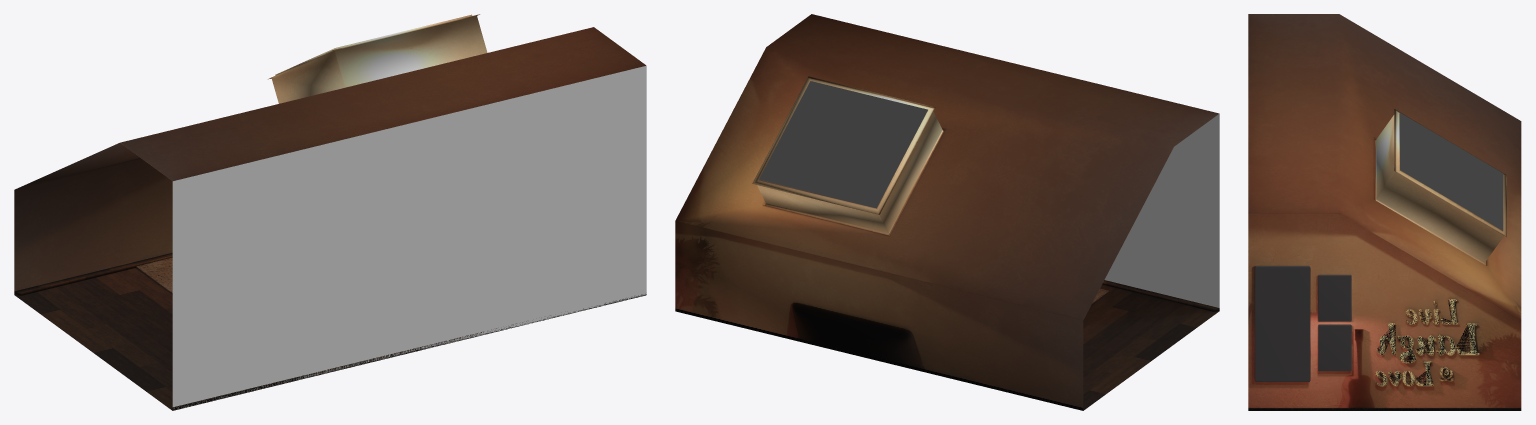
File: Loft Bedroom.fbx
The picture shows the model from 3 angles, left to right: view 1: azimuth 30°, elevation 25°; view 2: azimuth 150°, elevation 25°; view 3: azimuth 270°, elevation 25°; orthographic projection. The views are drawn at different scales.
Parts seen in each view (by area): view 1: LoftBedroom; view 2: LoftBedroom; view 3: LoftBedroom.
Part boxes in pixels (x1,y1,x2,y2): LoftBedroom: (14,14,646,410); LoftBedroom: (675,14,1219,410); LoftBedroom: (1248,14,1521,410).
Size of the model in its own units: 2901 by 1399 by 1676.
